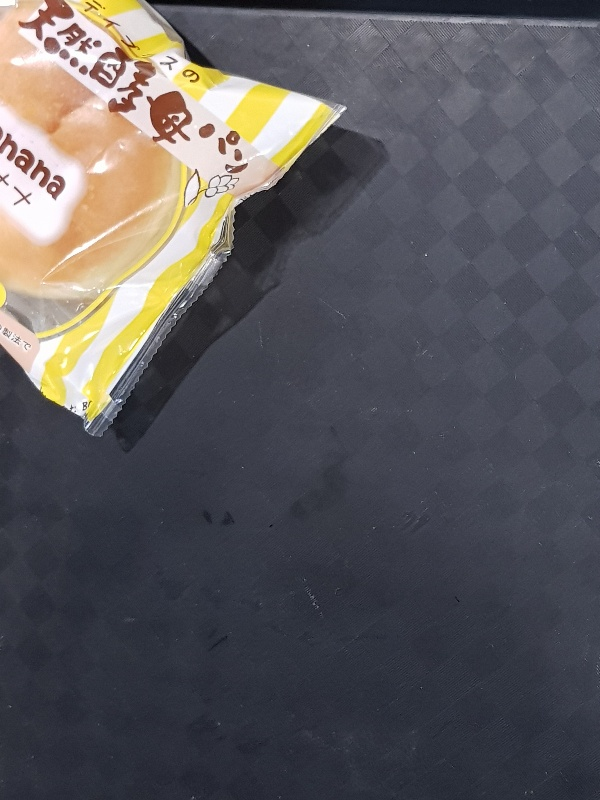Dayplus Banana: (1, 1, 348, 438)
